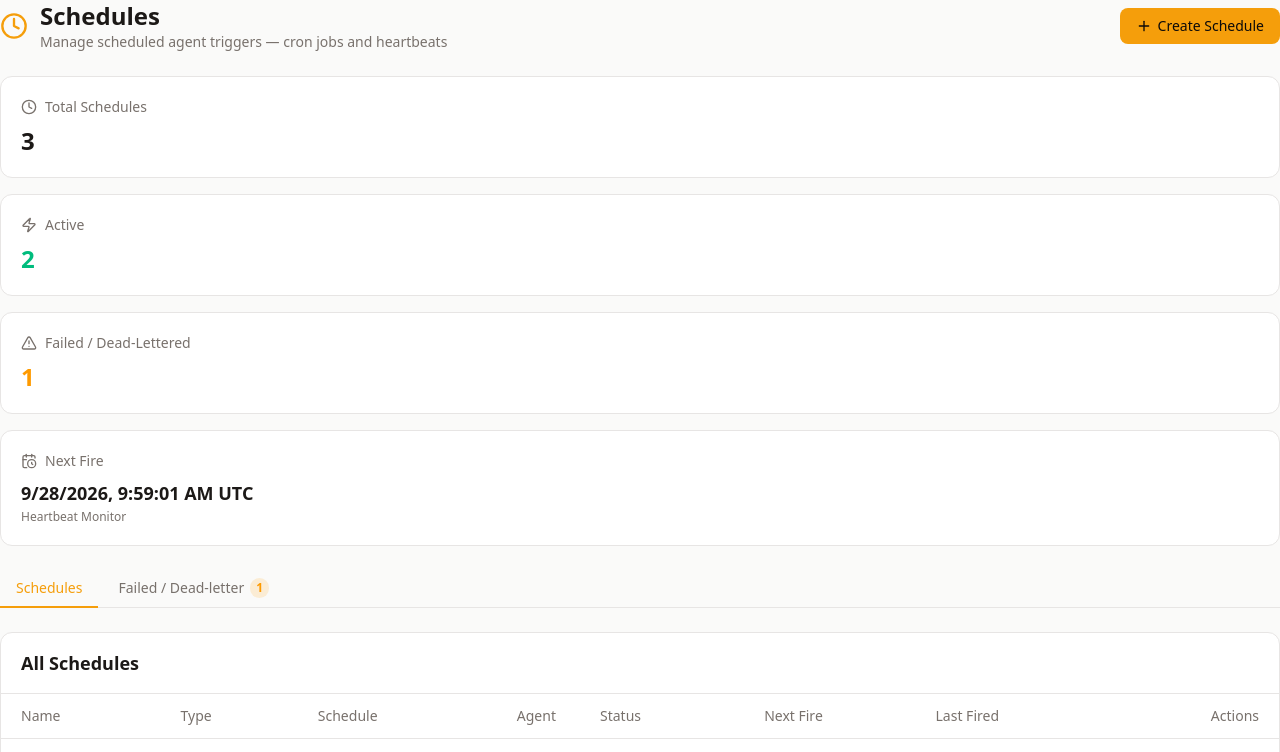
Test: SchedulesPage › Create button is disabled when form is empty
Click the button with test id "create-schedule-btn". click: (1200, 26)
box: [1120,8,1279,44]
(page scrolled)
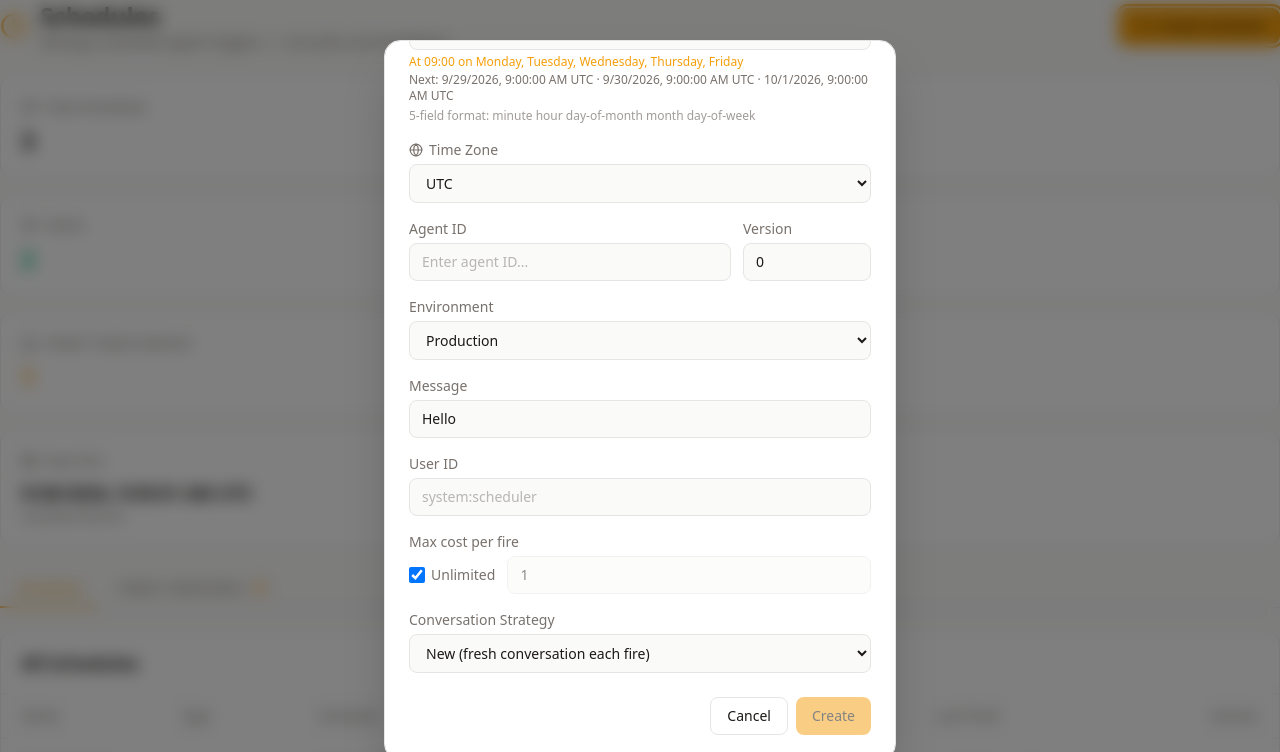
Now the button "Create" is disabled, box [796,697,871,735]
